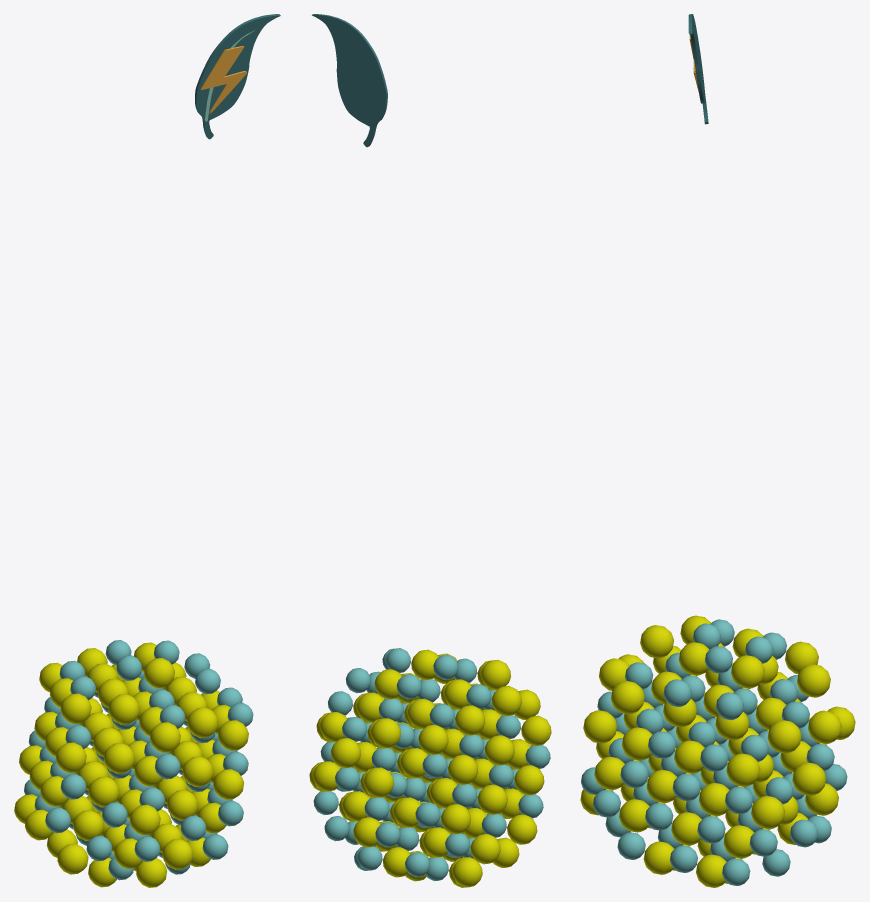
The model's file is qds2_cdse.glb.
The picture shows the model from 3 angles, left to right: view 1: azimuth 30°, elevation 25°; view 2: azimuth 150°, elevation 25°; view 3: azimuth 270°, elevation 25°; orthographic projection. The views are drawn at different scales.
Visible parts, largest first — view 1: qds2_cdse, path182, path186; view 2: qds2_cdse, path182; view 3: qds2_cdse, path182.
Part boxes in pixels (x1,y1,x2,y2): qds2_cdse: [14, 640, 253, 887]; path182: [195, 14, 280, 139]; path186: [200, 46, 246, 113]; qds2_cdse: [309, 648, 551, 887]; path182: [312, 14, 387, 147]; qds2_cdse: [580, 615, 855, 887]; path182: [688, 14, 708, 124].
Bounding box in the file's own units: 1.77 × 5.94 × 1.62.
